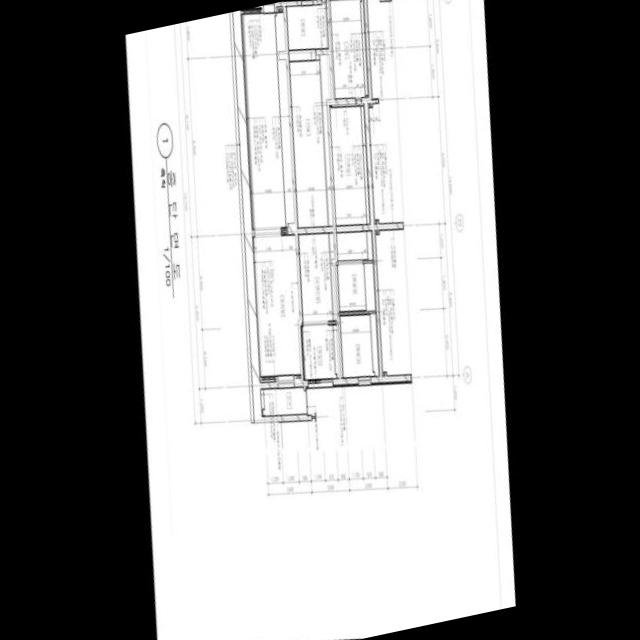background: (125, 0, 515, 640)
space_dressroom: (296, 233, 336, 322)
space_front: (284, 4, 328, 61)
space_living_room: (287, 54, 332, 228)
space_other: (241, 12, 294, 228), (252, 235, 300, 376), (327, 103, 370, 226), (328, 0, 368, 99), (260, 387, 306, 416), (336, 230, 373, 260)
space_toilet: (337, 313, 379, 378), (300, 325, 339, 380), (335, 263, 376, 312)
